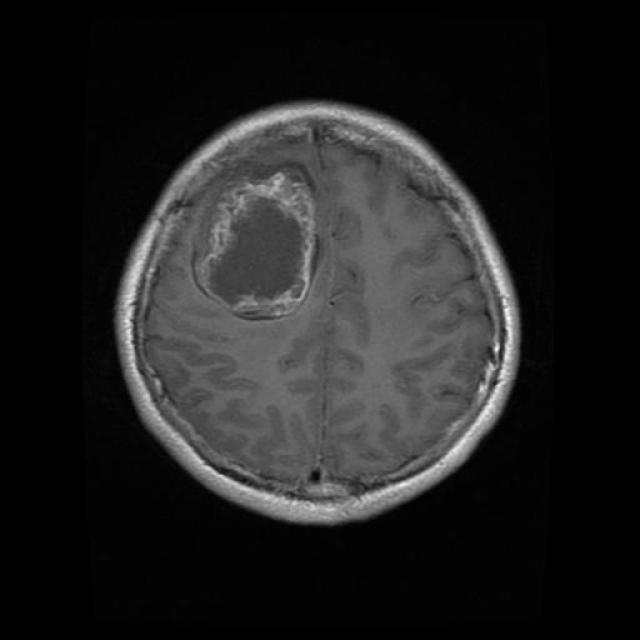glioma: (189, 160, 330, 334)
